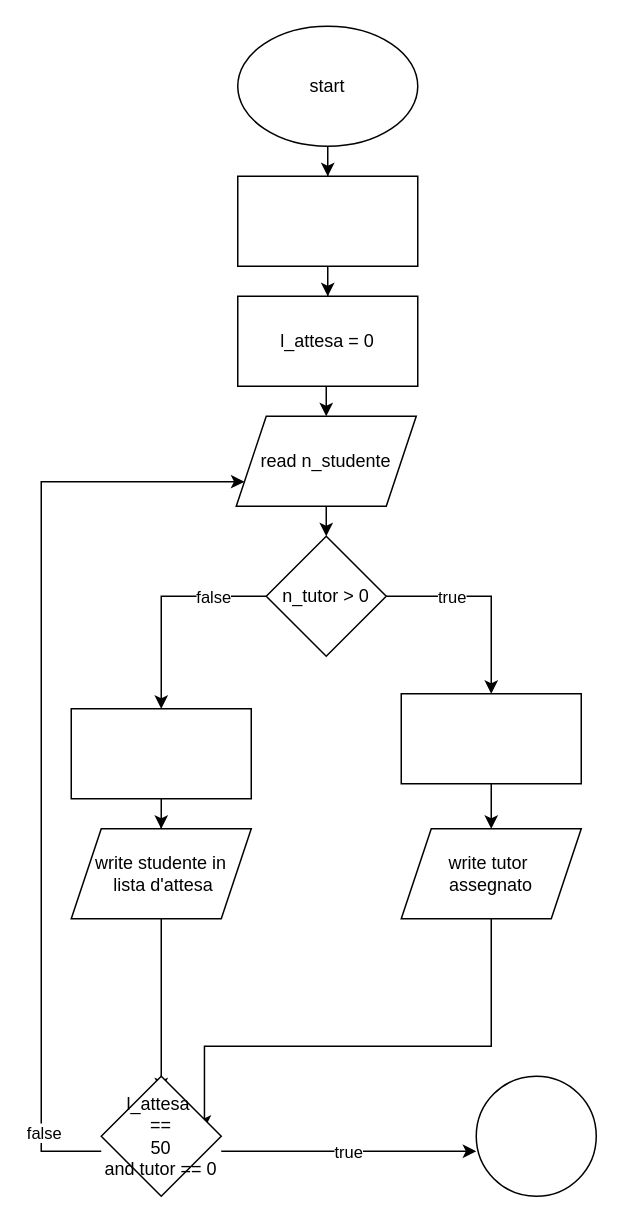
The diagram is 623 pixels wide and 1223 high, and some of its shapes have lost their labels. The centre of each missing label's shape, as x and y in pixels:
"end" belongs at [535,1135].
"l_attesa = l_attesa + 1" belongs at [160,753].
"n_tutor = 0" belongs at [327,220].
"n_tutor = n_tutor - 1" belongs at [490,738].
